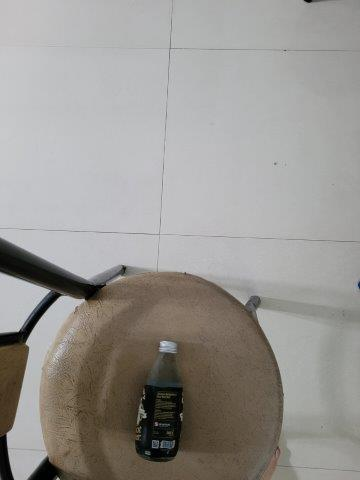botolkaca: (134, 339, 182, 461)
